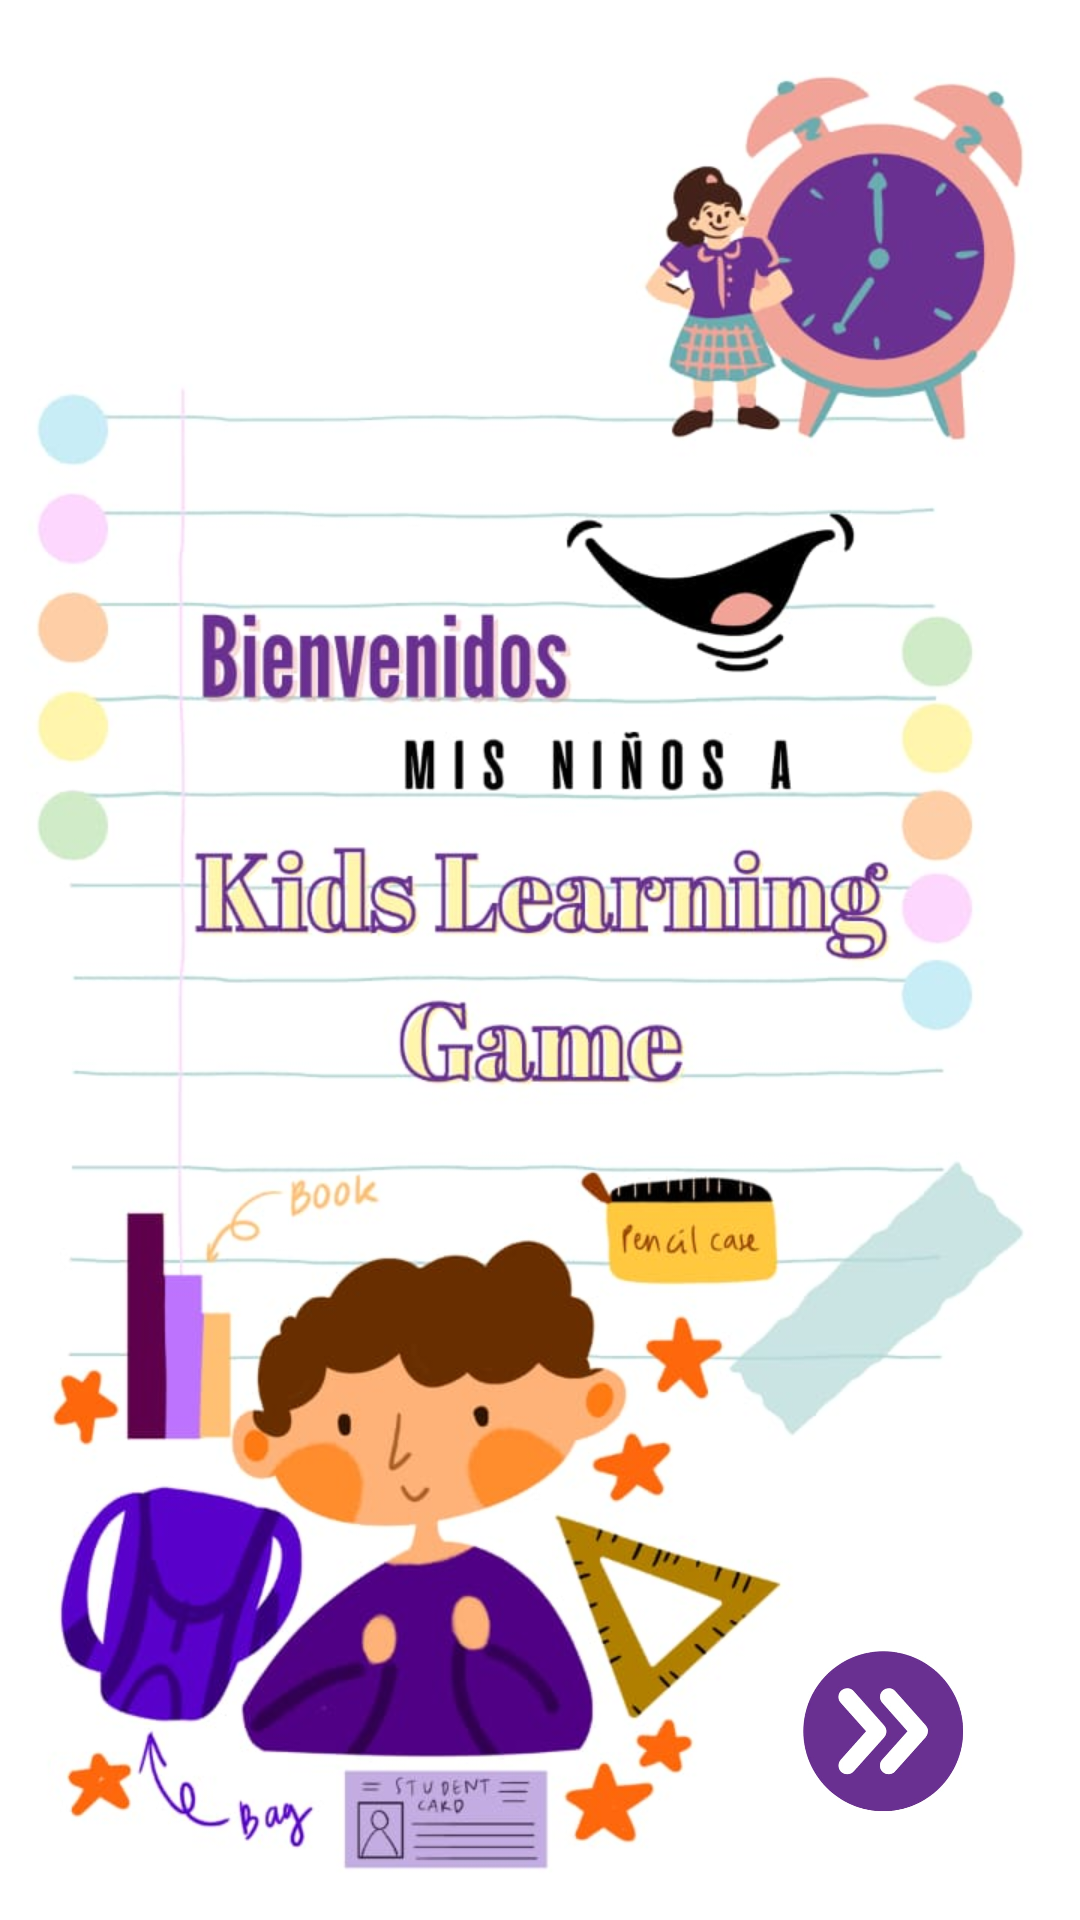

Icon bounding boxes for this 1080 × 1920 phone screenshot, format [x1, y1, x2, y2]:
Botón siguiente app: [803, 1651, 963, 1811]
